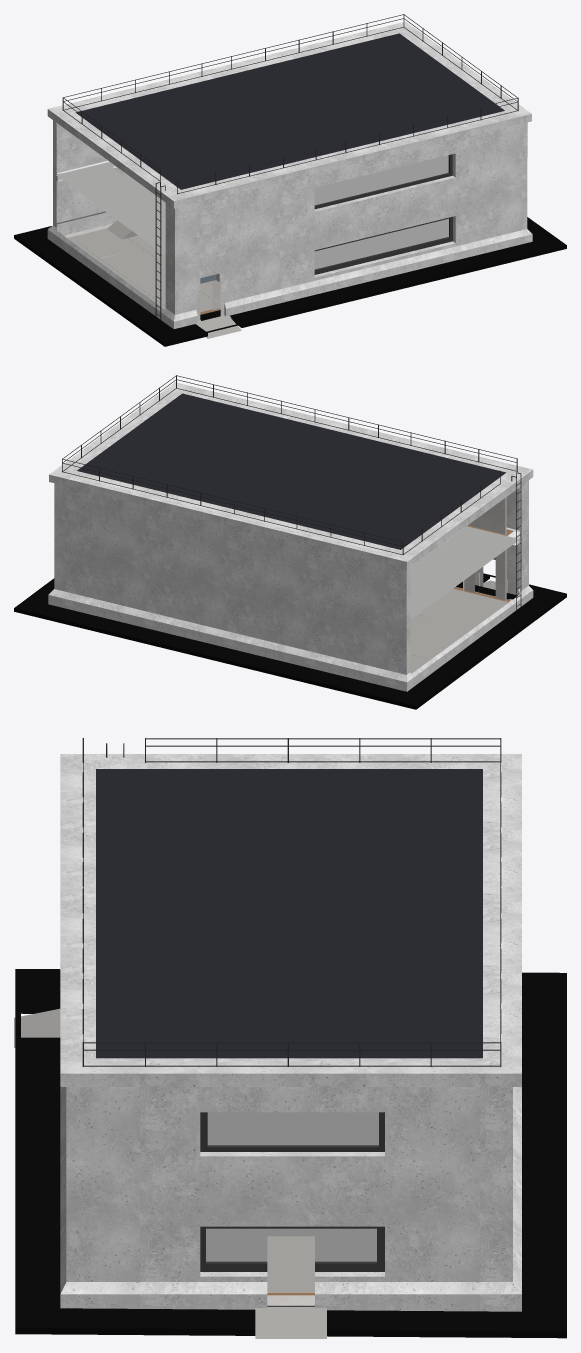
The model's file is command-post.access-v11.lod1.glb.
3 views of the same model, one above another, from view 1: azimuth 30°, elevation 25°; view 2: azimuth 150°, elevation 25°; view 3: azimuth 270°, elevation 25° (orthographic). The views are drawn at different scales.
Parts seen in each view (by area): view 1: _1st_Inner_Floor_Floor_1_0, _1st_Inner_Floor_Outer_Walls_0, Inner_Railing_Railing_0, window_1_window_0, _2nd_Inner_Floor_Inner_walls_0; view 2: _1st_Inner_Floor_Outer_Walls_0, _1st_Inner_Floor_Floor_1_0, Inner_Railing_Railing_0, _2nd_Inner_Floor_Inner_walls_0; view 3: _1st_Inner_Floor_Floor_1_0, _1st_Inner_Floor_Outer_Walls_0, Inner_Railing_Railing_0, window_1_window_0.
Part boxes in pixels (x1,y1,x2,y2): _1st_Inner_Floor_Floor_1_0: (14,33,566,346); _1st_Inner_Floor_Outer_Walls_0: (47,21,532,328); Inner_Railing_Railing_0: (62,14,518,320); window_1_window_0: (314,154,452,274); _2nd_Inner_Floor_Inner_walls_0: (64,223,220,310); _1st_Inner_Floor_Outer_Walls_0: (48,382,533,691); _1st_Inner_Floor_Floor_1_0: (14,393,566,709); Inner_Railing_Railing_0: (62,375,521,610); _2nd_Inner_Floor_Inner_walls_0: (422,497,512,661); _1st_Inner_Floor_Floor_1_0: (14,769,566,1338); _1st_Inner_Floor_Outer_Walls_0: (60,754,521,1311); Inner_Railing_Railing_0: (82,738,501,1066); window_1_window_0: (200,1112,384,1271).
Size of the model in its own units: 28.55 by 9.96 by 18.56.
5 materials, 2 textured.
